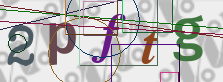2: (6, 24, 35, 67)
f: (91, 13, 126, 64)
g: (173, 14, 205, 63)
p: (47, 21, 77, 66)
t: (140, 29, 158, 64)
